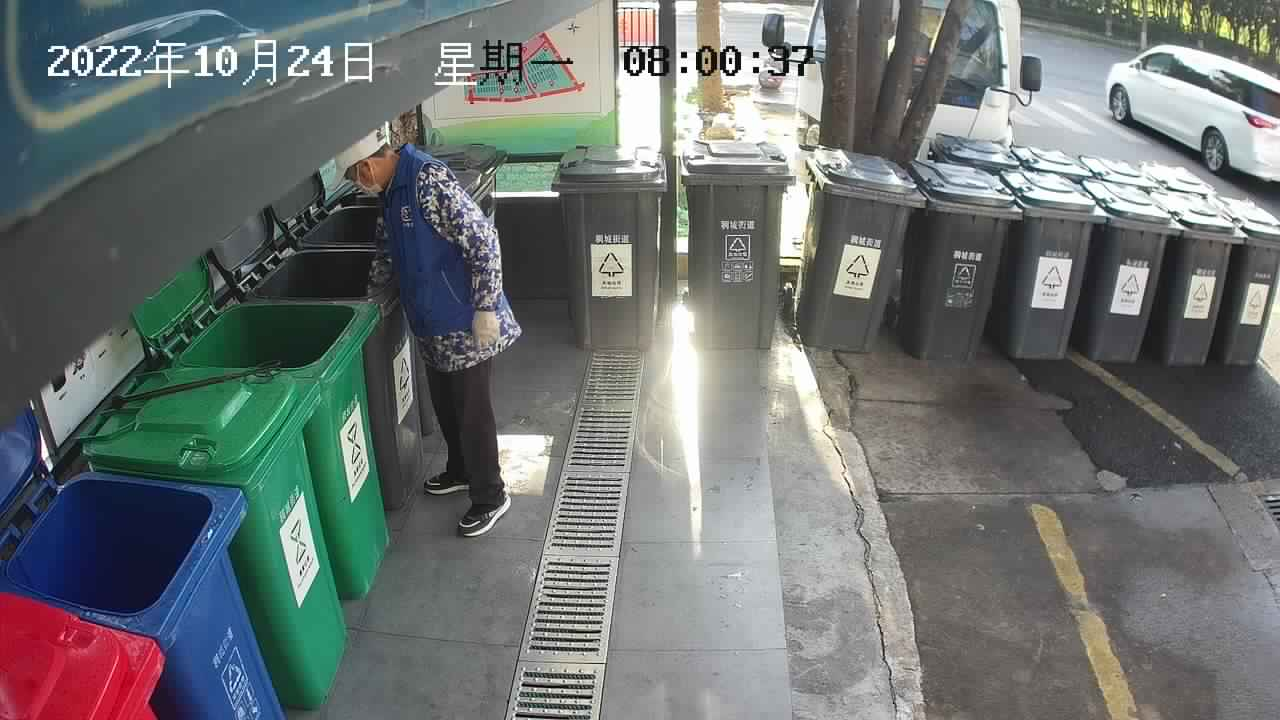worker: (320, 121, 528, 547)
